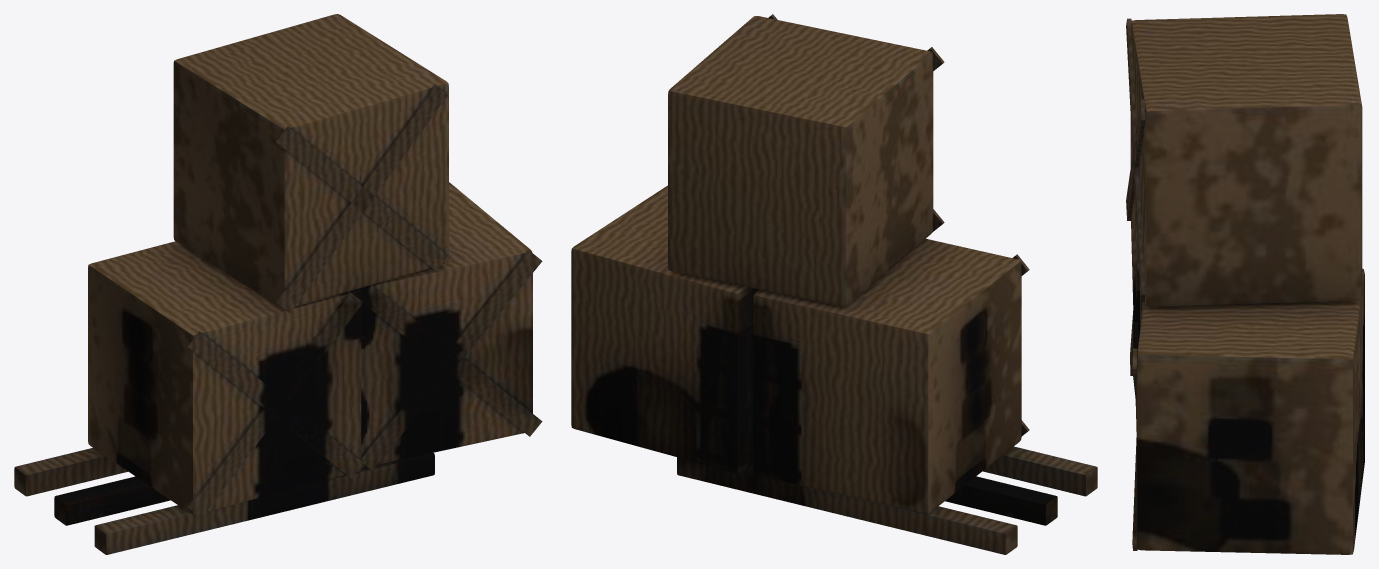
File: caixotes.glb
3 renders of one model, left to right at view 1: azimuth 30°, elevation 25°; view 2: azimuth 150°, elevation 25°; view 3: azimuth 270°, elevation 25°, orthographic. The views are drawn at different scales.
Parts seen in each view (by area): view 1: caixotes; view 2: caixotes; view 3: caixotes.
Part boxes in pixels (x1,y1,x2,y2): caixotes: (14,14,542,554); caixotes: (571,14,1097,554); caixotes: (1126,14,1364,554).
Size of the model in its own units: 2.49 by 2.16 by 1.1.
1 material, 1 textured.
